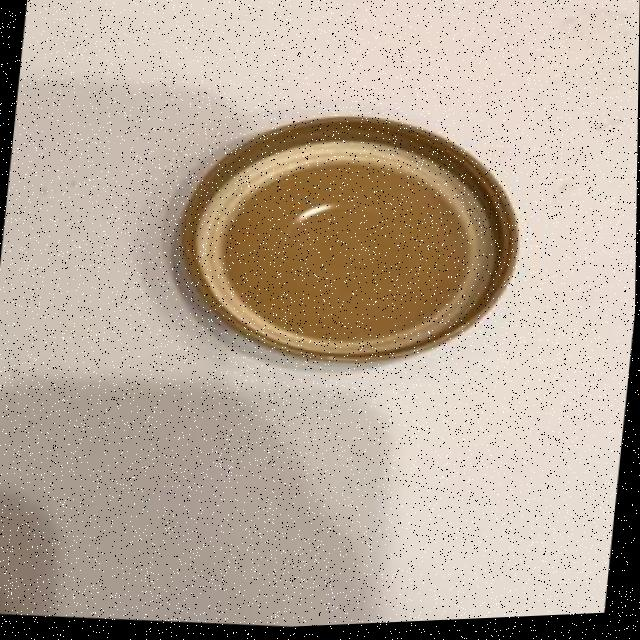metal: (150, 87, 542, 393)
